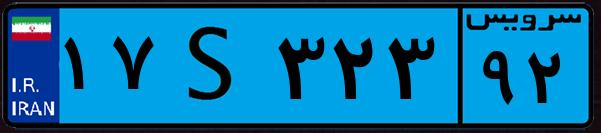1: (57, 26, 110, 100)
2: (330, 28, 385, 110), (525, 38, 570, 115)
3: (270, 28, 330, 110), (385, 28, 445, 110)
7: (110, 28, 158, 98)
9: (475, 38, 525, 113)
S: (158, 12, 270, 120)
